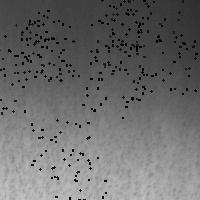pitted_surface: (5, 56, 195, 194), (135, 34, 195, 93), (31, 119, 89, 179), (86, 44, 144, 103), (4, 23, 64, 80), (21, 20, 78, 79), (82, 62, 142, 117), (91, 0, 147, 51), (97, 0, 157, 47), (0, 10, 47, 69), (51, 153, 105, 200), (0, 55, 41, 114), (124, 0, 182, 31)
